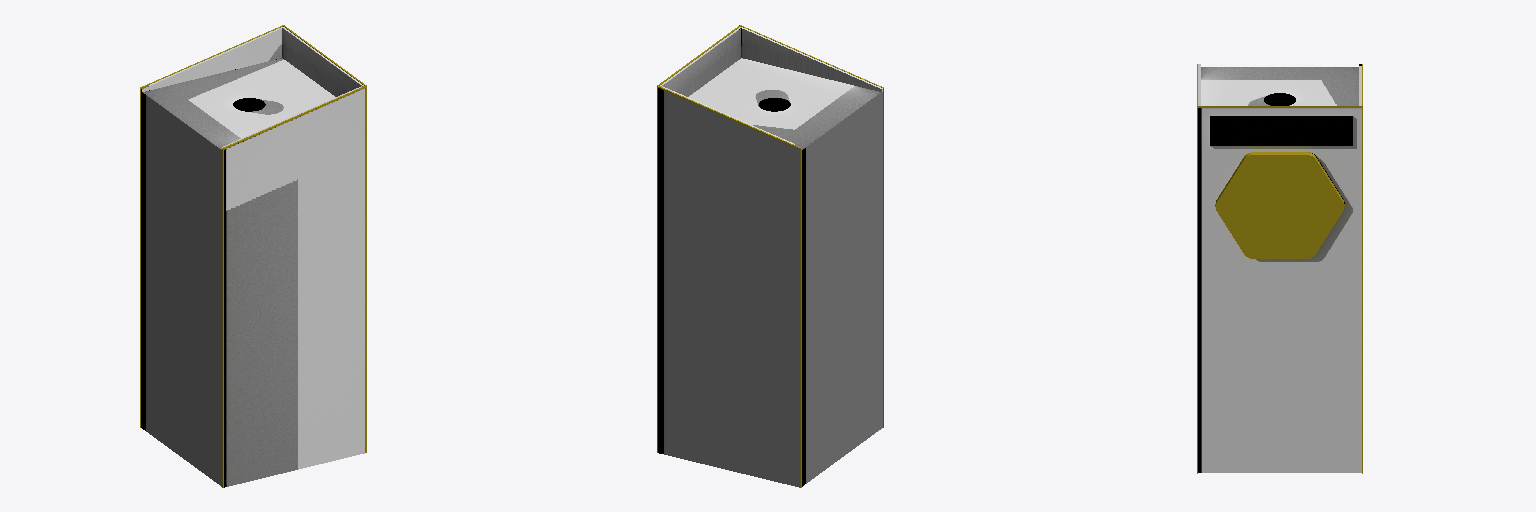
3 views of the same model, side by side, from view 1: azimuth 30°, elevation 25°; view 2: azimuth 150°, elevation 25°; view 3: azimuth 270°, elevation 25° (orthographic).
Parts seen in each view (by area): view 1: Cube.005_Cube.006, Cube.001; view 2: Cube.005_Cube.006, Cube; view 3: Cube.005_Cube.006, Cylinder_Cylinder.002.
Part boxes in pixels (x1,y1,x2,y2): Cube.005_Cube.006: (141,27,365,487); Cube.001: (222,148,223,487); Cube.005_Cube.006: (658,27,882,487); Cube: (800,148,801,487); Cube.005_Cube.006: (1198,64,1361,472); Cylinder_Cylinder.002: (1215,152,1344,258).
Bounding box in the file's own units: 1.04 × 2.46 × 1.01.
Materials: 4 (1 with a texture image).